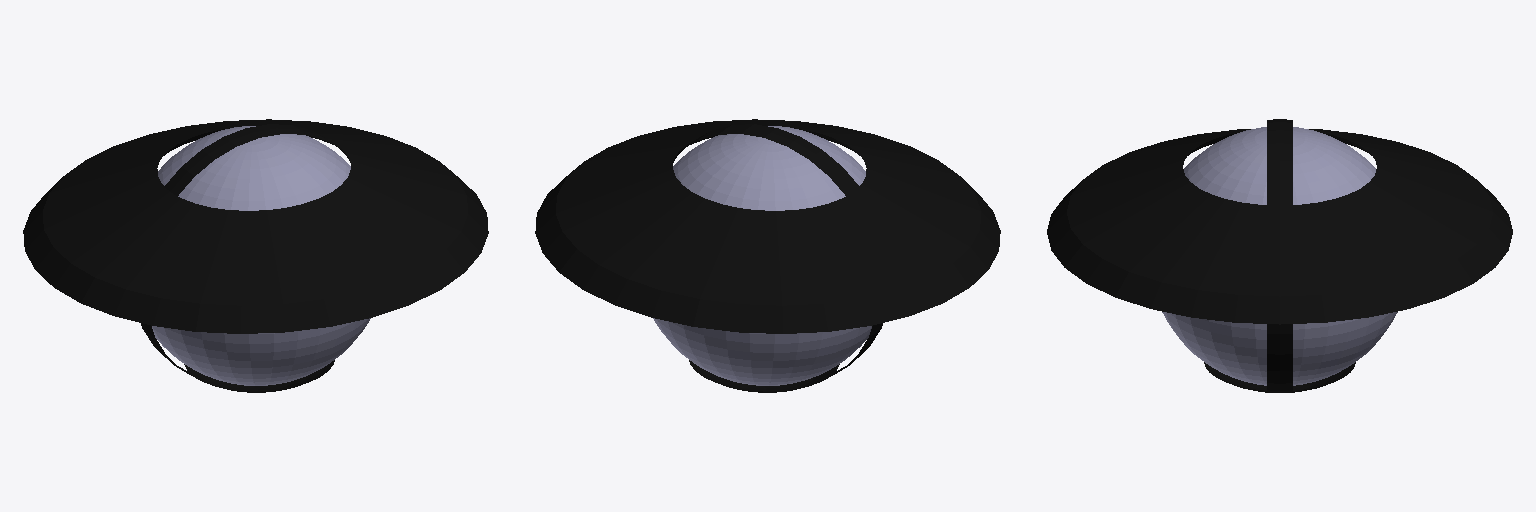
Rendered from black_lamp_01.obj.
3 views of the same model, side by side, from view 1: azimuth 30°, elevation 25°; view 2: azimuth 150°, elevation 25°; view 3: azimuth 270°, elevation 25° (orthographic).
Visible parts, largest first — view 1: Sphere.003, Sphere.002, Sphere.001; view 2: Sphere.003, Sphere.002, Sphere.001; view 3: Sphere.003, Sphere.002, Sphere.001.
Part boxes in pixels (bbox=[...]): Sphere.003: bbox=[23, 119, 488, 392]; Sphere.002: bbox=[152, 126, 370, 385]; Sphere.001: bbox=[141, 124, 349, 386]; Sphere.003: bbox=[535, 119, 1000, 392]; Sphere.002: bbox=[653, 126, 871, 385]; Sphere.001: bbox=[674, 124, 882, 386]; Sphere.003: bbox=[1047, 129, 1512, 392]; Sphere.002: bbox=[1162, 127, 1397, 385]; Sphere.001: bbox=[1267, 119, 1292, 390].
Size of the model in its own units: 3.4 by 2 by 3.4.